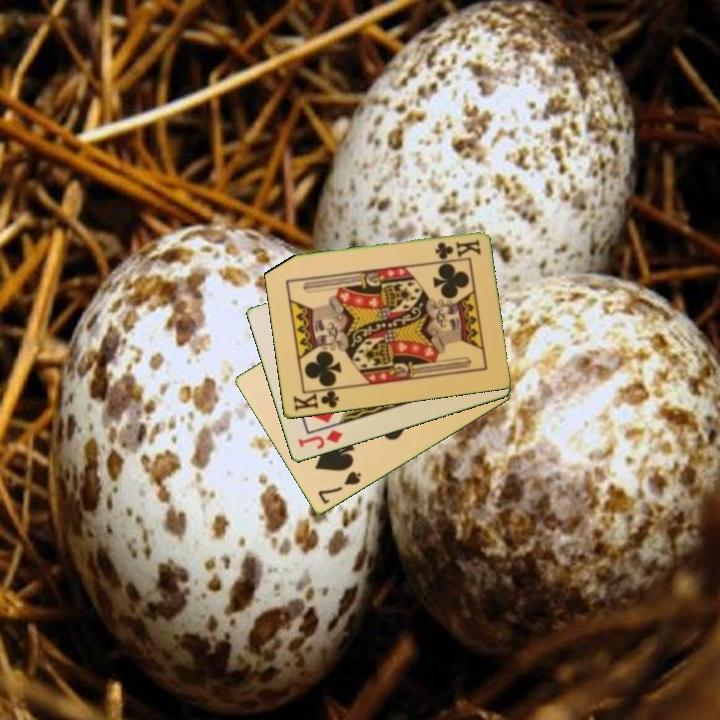7s: (314, 468, 364, 507)
Jd: (294, 427, 345, 452)
Kc: (289, 385, 343, 414), (431, 236, 483, 261)
